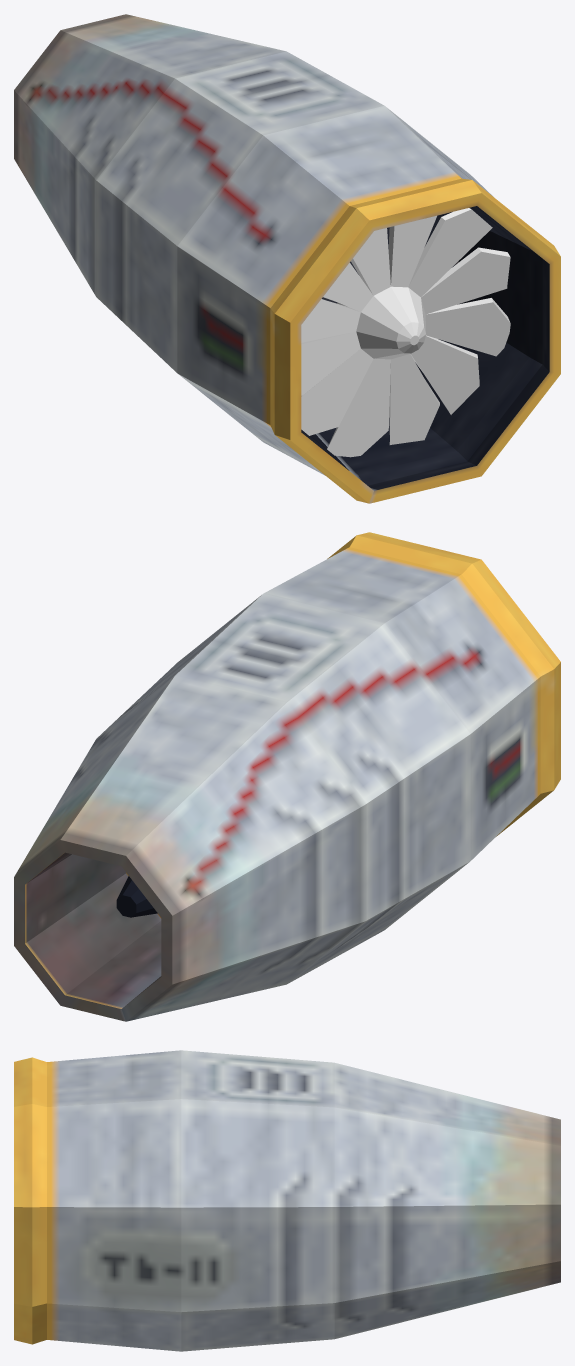
Rendered from TurboFan.fbx.
3 renders of one model, top to bottom at view 1: azimuth 30°, elevation 25°; view 2: azimuth 150°, elevation 25°; view 3: azimuth 270°, elevation 25°, orthographic. The views are drawn at different scales.
Visible parts, largest first — view 1: TurboFan, Blade; view 2: TurboFan; view 3: TurboFan.
Boxes of the visible parts, <box> form: TurboFan: <box>14,14,560,503</box>; Blade: <box>301,208,510,457</box>; TurboFan: <box>14,532,560,1021</box>; TurboFan: <box>14,1050,560,1351</box>.
Bounding box in the file's own units: 2 × 2 × 3.94.
